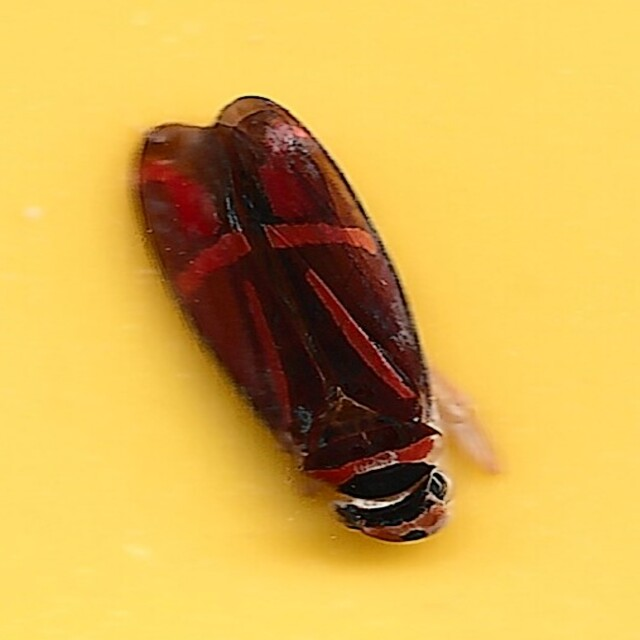Hemiptera: (126, 93, 514, 547)
